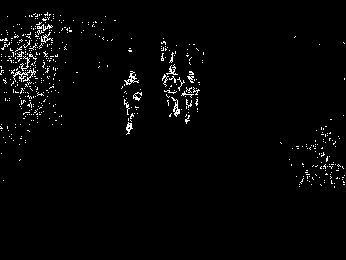person: (119, 68, 145, 136), (184, 66, 204, 124), (162, 64, 181, 118)
